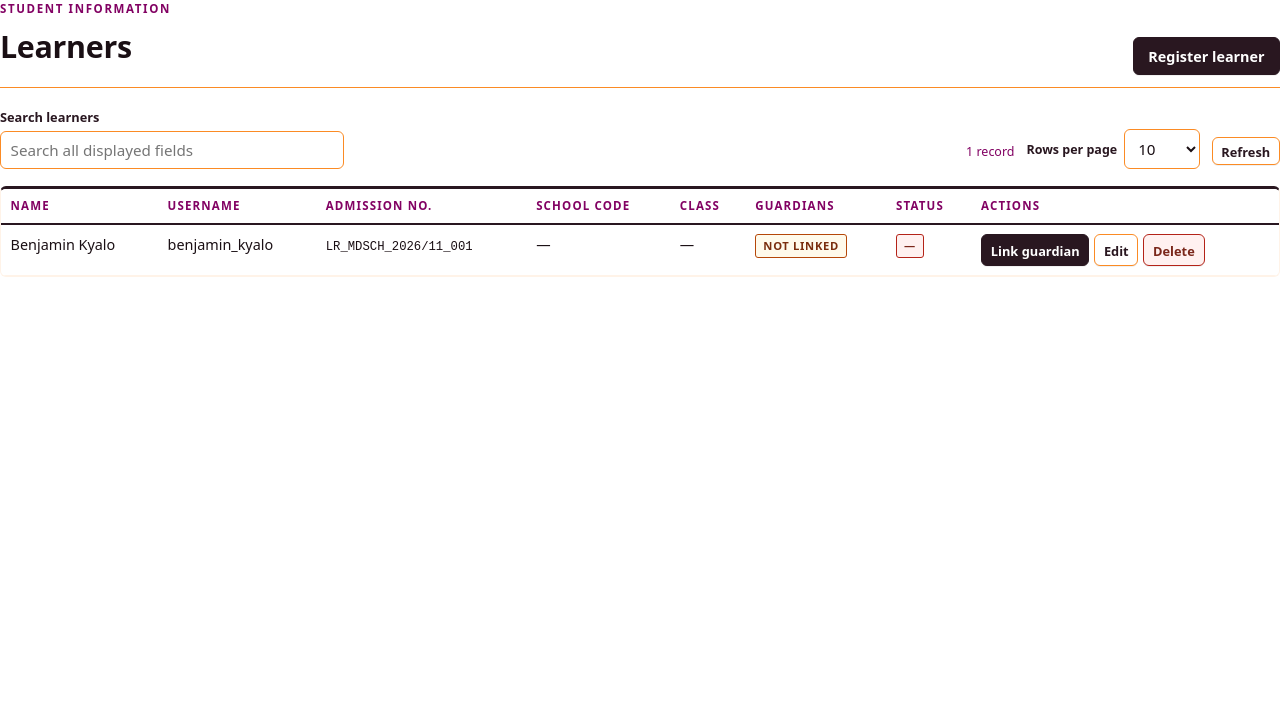
Test: Learners guardian linking › lets the admin verify a pending request inline
Click the button "Link guardian" at {"x": 1035, "y": 250}, box [981,234,1089,266]
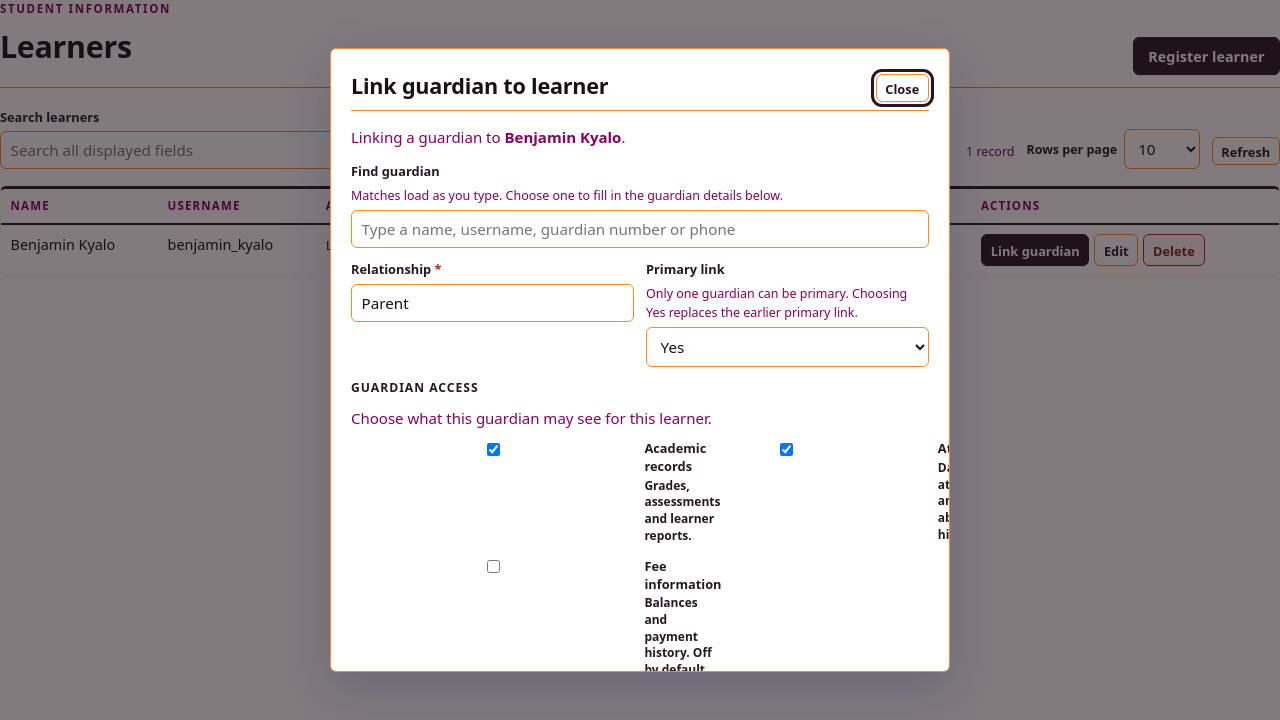
Type "mary" into the dropdown with placeholder "Type a name, username, guardian number or phone" at {"x": 640, "y": 229}, box [351,210,929,248]
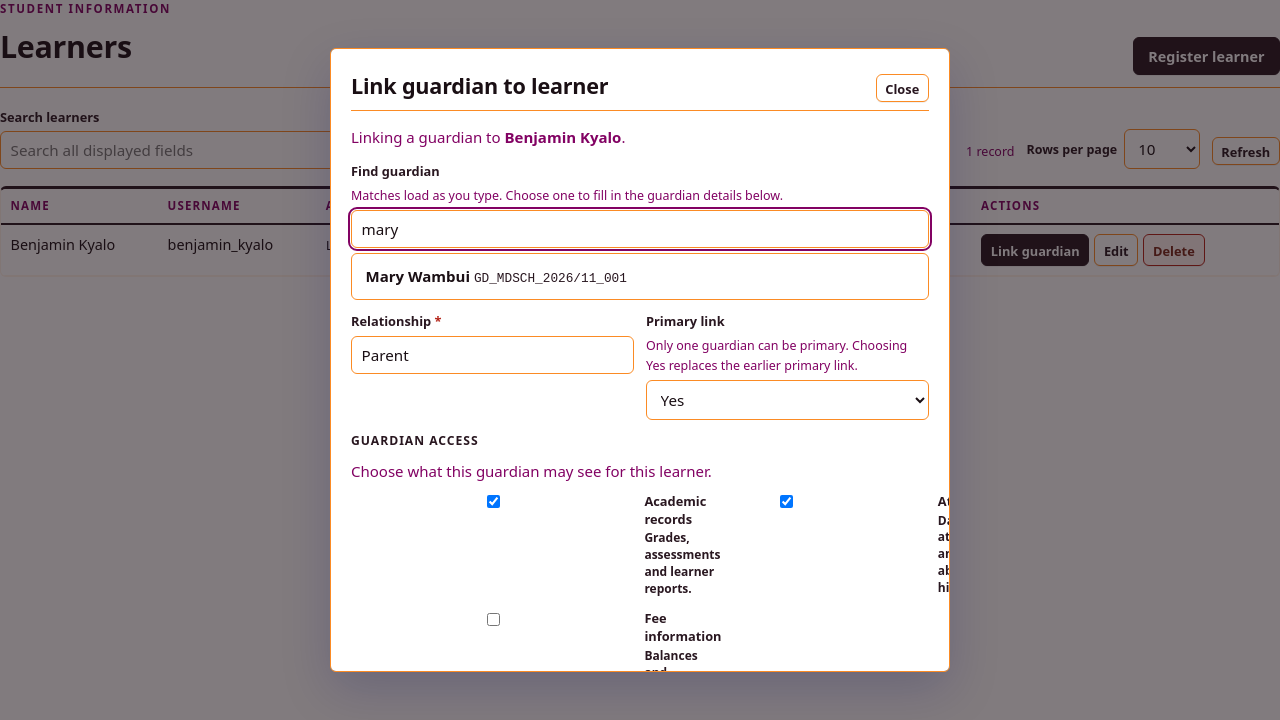
Click the text "Mary Wambui" at {"x": 418, "y": 276}, box [366,266,470,286]
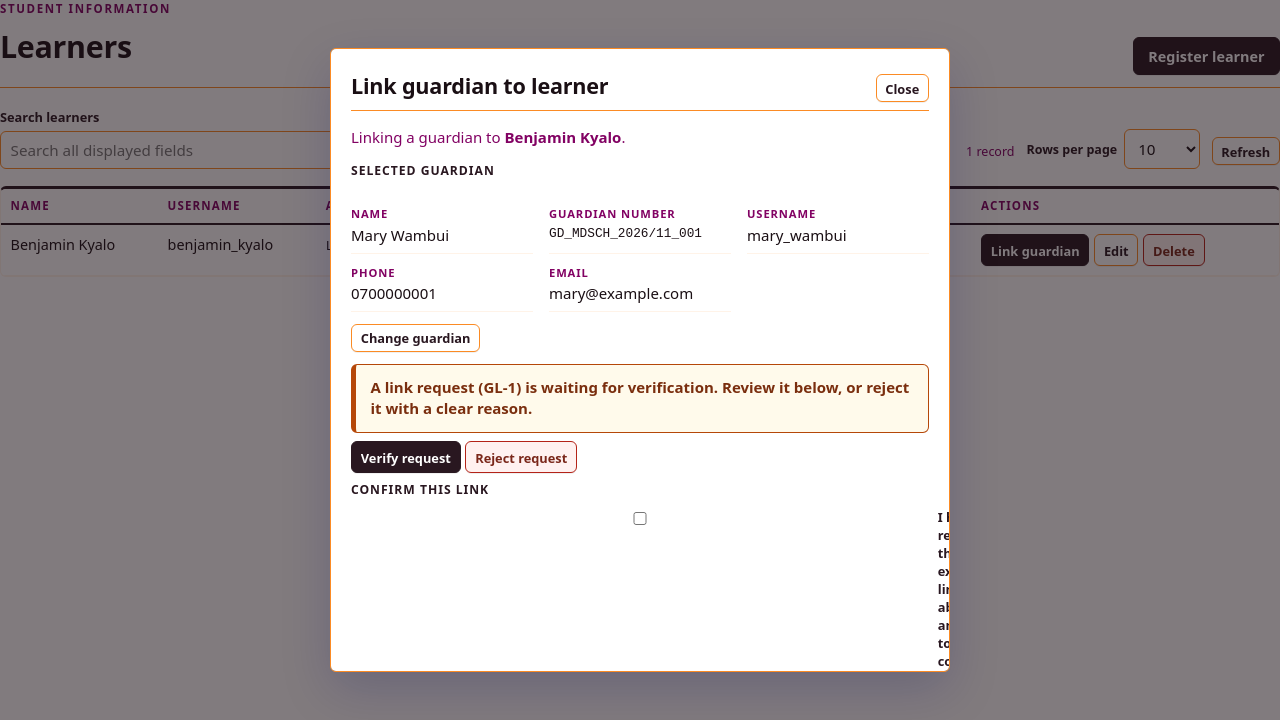
Check: the text "waiting for verification" is shown, box [370,376,909,418]
Click the button with aria-label "Verify link request GL-1" at {"x": 406, "y": 457}, box [351,441,461,473]
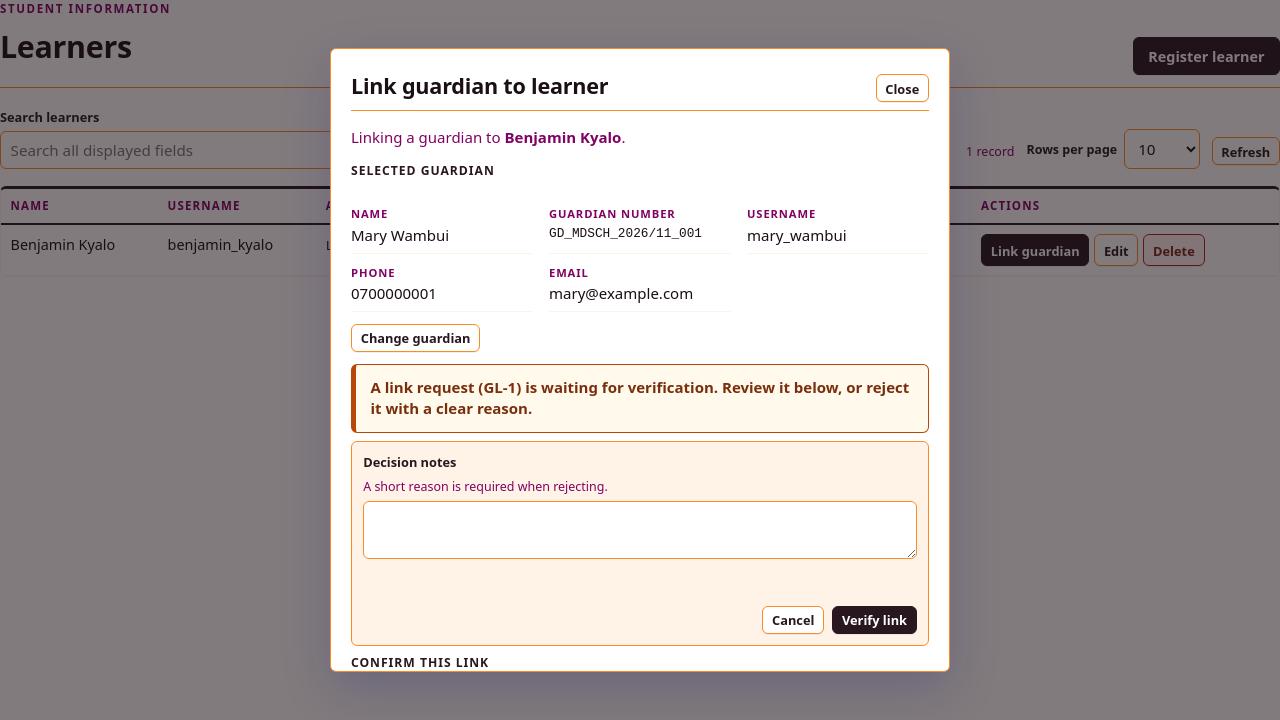
Click the button "Verify link" at {"x": 874, "y": 620}, box [832,606,917,634]
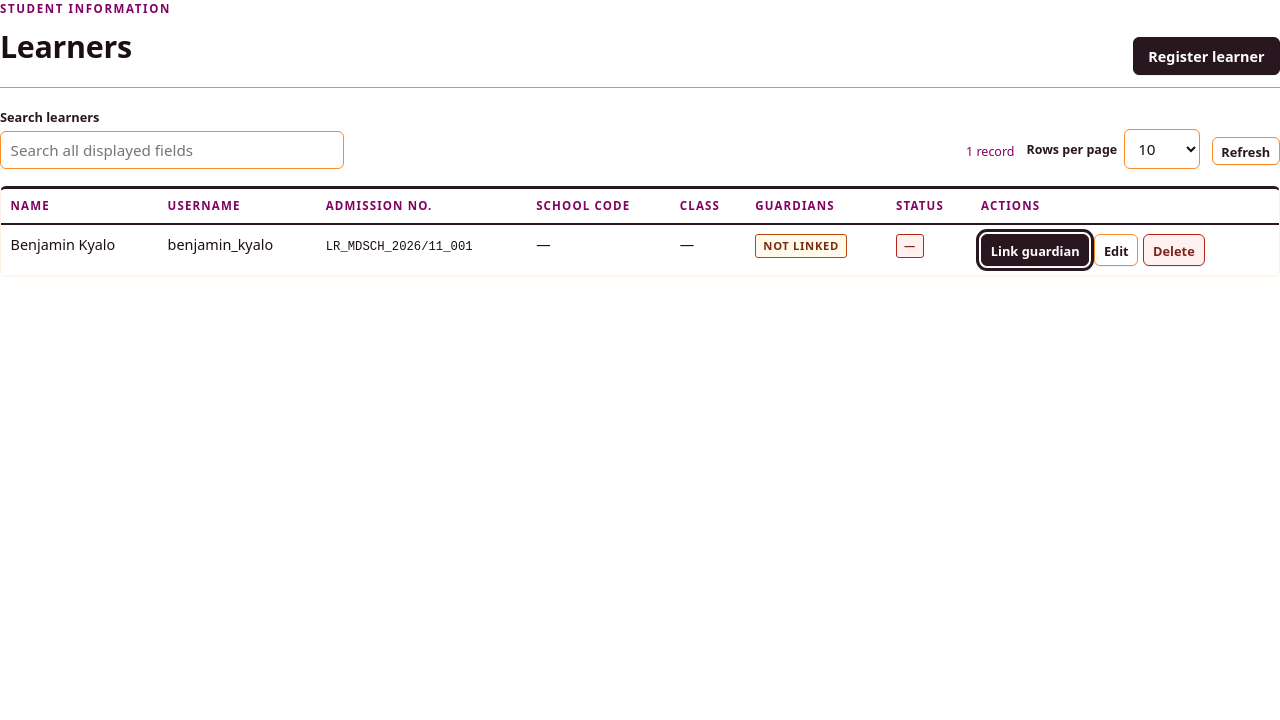
Check: the dialog is gone
